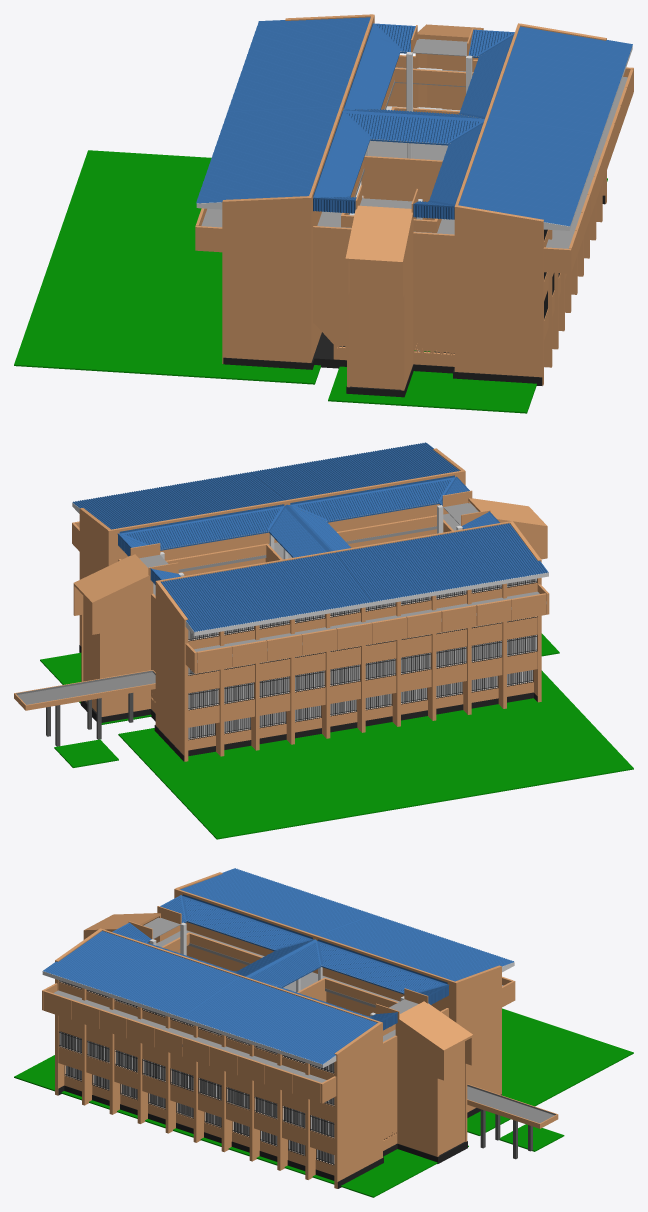
Rendered from Block_B.fbx.
3 views of the same model, one above another, from view 1: azimuth 30°, elevation 25°; view 2: azimuth 150°, elevation 25°; view 3: azimuth 270°, elevation 25° (orthographic). The views are drawn at different scales.
Parts seen in each view (by area): view 1: RoofBlockB, GardenBack, WallsFrontBack, StairShield, PolesBalcon, FoundationBlockB, HigherFloors, RoofCentral, ToiletsStructure, FloorGroundBlockB, WalkFence, CelingLow (+2 smaller); view 2: RoofBlockB, GardenBack, PolesBalcon, WallsFrontBack, StairShield, WindowsBlockB, BridgeRoof, RoofCentral, FloorGroundBlockB, WalkFence, HigherFloors, RoofSupport (+4 smaller); view 3: RoofBlockB, PolesBalcon, WallsFrontBack, StairShield, GardenBack, WindowsBlockB, FoundationBlockB, HigherFloors, RoofCentral, FloorGroundBlockB, BridgeRoof, WalkFence (+4 smaller).
Boxes of the visible parts, x1,y1,x2,y2 form: RoofBlockB: (196,17,632,226); GardenBack: (14,150,320,384); WallsFrontBack: (222,14,606,385); StairShield: (313,24,483,390); PolesBalcon: (195,67,633,367); FoundationBlockB: (328,178,607,413); HigherFloors: (201,67,627,248); RoofCentral: (342,109,484,143); ToiletsStructure: (361,155,442,220); FloorGroundBlockB: (223,195,605,397); WalkFence: (341,67,473,232); CelingLow: (360,38,480,208); RoofBlockB: (72,442,548,632); GardenBack: (118,670,633,839); PolesBalcon: (72,521,549,756); WallsFrontBack: (79,448,541,761); StairShield: (73,490,547,716); WindowsBlockB: (188,578,537,740); BridgeRoof: (14,670,155,710); RoofCentral: (269,504,350,557); FloorGroundBlockB: (79,645,537,761); WalkFence: (166,515,453,569); HigherFloors: (153,513,546,662); RoofSupport: (72,502,548,635); RoofBlockB: (42,868,513,1064); PolesBalcon: (42,976,515,1179); WallsFrontBack: (55,872,501,1188); StairShield: (83,906,473,1156); GardenBack: (467,1008,633,1135); WindowsBlockB: (58,980,334,1165); FoundationBlockB: (14,1055,468,1197); HigherFloors: (53,930,503,1082); RoofCentral: (237,939,320,986); FloorGroundBlockB: (58,1085,501,1188); BridgeRoof: (467,1084,558,1128); WalkFence: (161,932,398,1035).
Bounding box in the file's own units: 4734 × 1241 × 4874.
